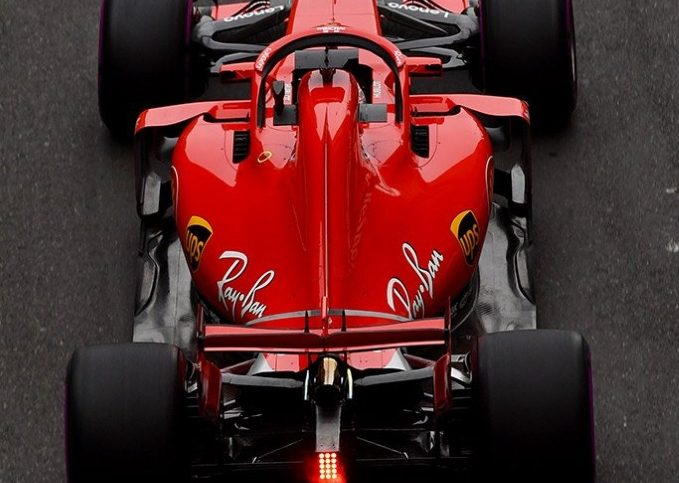f1_car: (53, 1, 611, 482)
